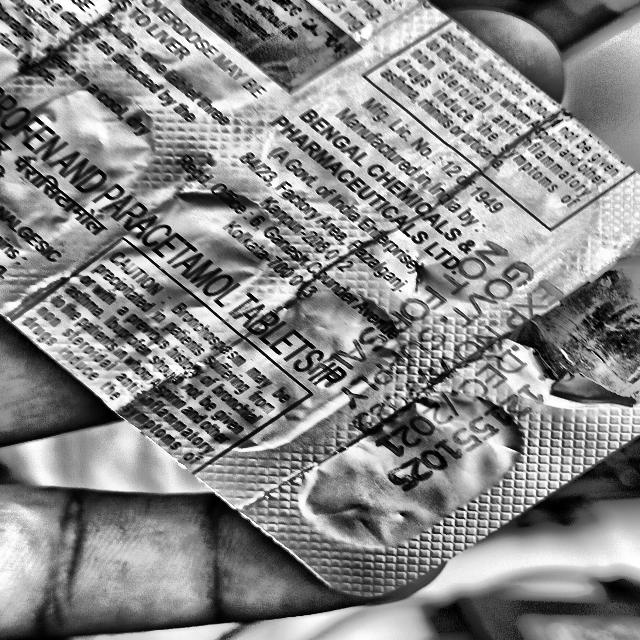IBUPROFEN AND PARACETAMOL TABLETS: (0, 63, 364, 410)
